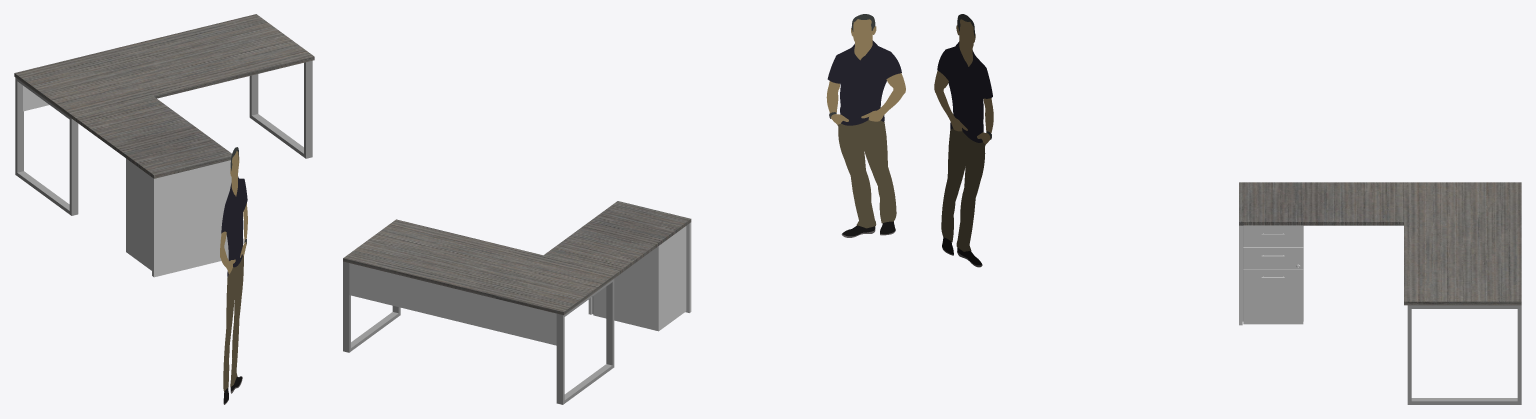
The picture shows the model from 3 angles, left to right: view 1: azimuth 30°, elevation 25°; view 2: azimuth 150°, elevation 25°; view 3: azimuth 270°, elevation 25°; orthographic projection. The views are drawn at different scales.
Parts seen in each view (by area): view 1: Group_44, Group_43, Group_41, Group_26 (×4), Chris (×4), Group_16, Group_42; view 2: Group_44, Chris (×4), Group_42, Group_41, Group_20, Group_26 (×3), Group_16, Group_43; view 3: Group_44, Chris (×4), Group_41, Group_3, Group_26, Group_10, Group_24.
Boxes of the visible parts, left/top/right/bottom form: Group_44: left=14, top=14, right=314, bottom=118; Group_43: left=152, top=160, right=231, bottom=277; Group_41: left=72, top=96, right=231, bottom=178; Group_26 (×4): left=15, top=60, right=312, bottom=215; Chris (×4): left=220, top=151, right=247, bottom=391; Group_16: left=127, top=159, right=151, bottom=270; Group_42: left=23, top=85, right=49, bottom=111; Group_44: left=343, top=219, right=616, bottom=315; Chris (×4): left=827, top=19, right=905, bottom=228; Group_42: left=349, top=263, right=556, bottom=345; Group_41: left=544, top=201, right=691, bottom=275; Group_20: left=593, top=245, right=659, bottom=331; Group_26 (×3): left=343, top=261, right=614, bottom=404; Group_16: left=660, top=227, right=684, bottom=329; Group_43: left=685, top=222, right=691, bottom=312; Group_44: left=1404, top=182, right=1521, bottom=305; Chris (×4): left=934, top=19, right=992, bottom=251; Group_41: left=1239, top=182, right=1403, bottom=225; Group_3: left=1243, top=269, right=1303, bottom=324; Group_26: left=1407, top=305, right=1521, bottom=404; Group_10: left=1243, top=247, right=1303, bottom=269; Group_24: left=1243, top=225, right=1303, bottom=247.
Size of the model in its own units: 97.18 by 150 by 69.5.
9 materials, 1 textured.
